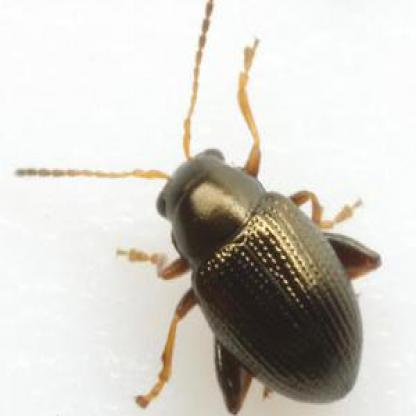beetle: (14, 0, 387, 410)
